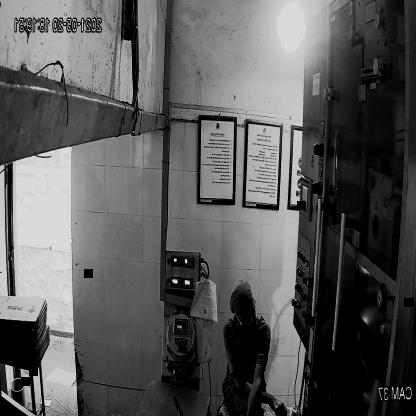goggles: (233, 304, 259, 329)
